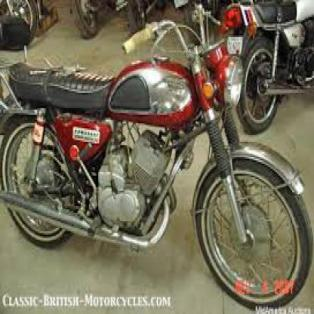Motocicleta: (0, 10, 312, 308)
